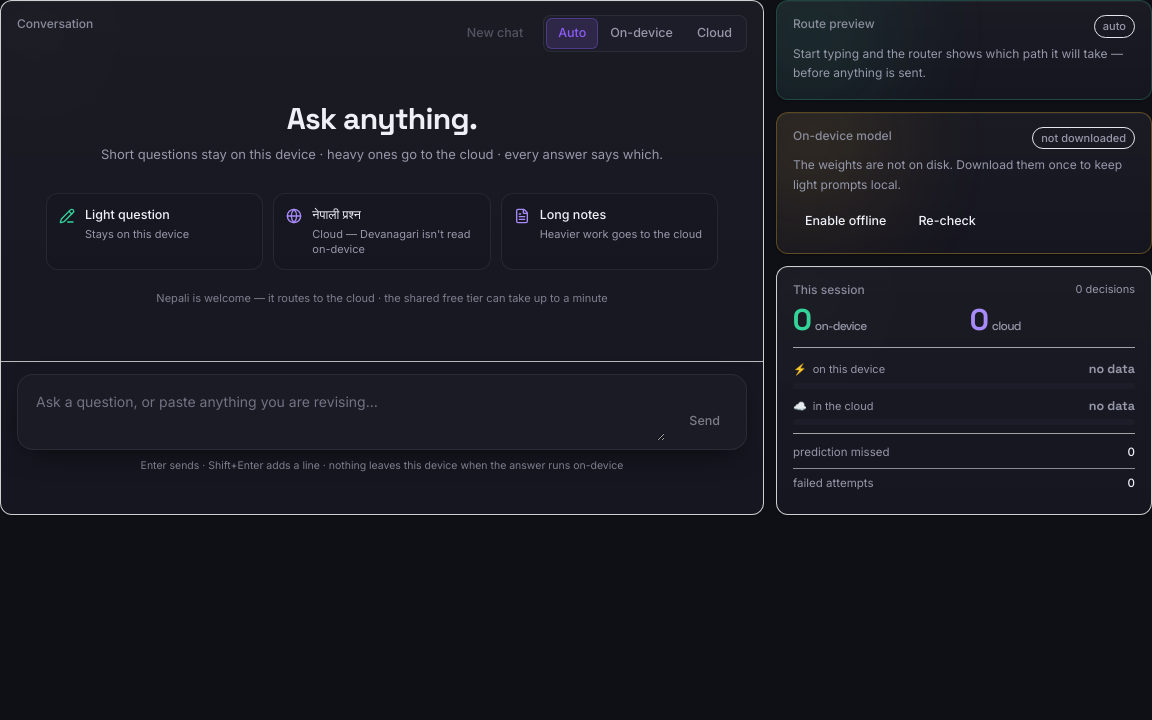
AskPage when history cannot be saved › keeps the answer on screen and says it was not saved
Type "Will this save?" into the text box named "Your question".
click(346, 412); type("Will this save?")  # box [26,383,665,441]
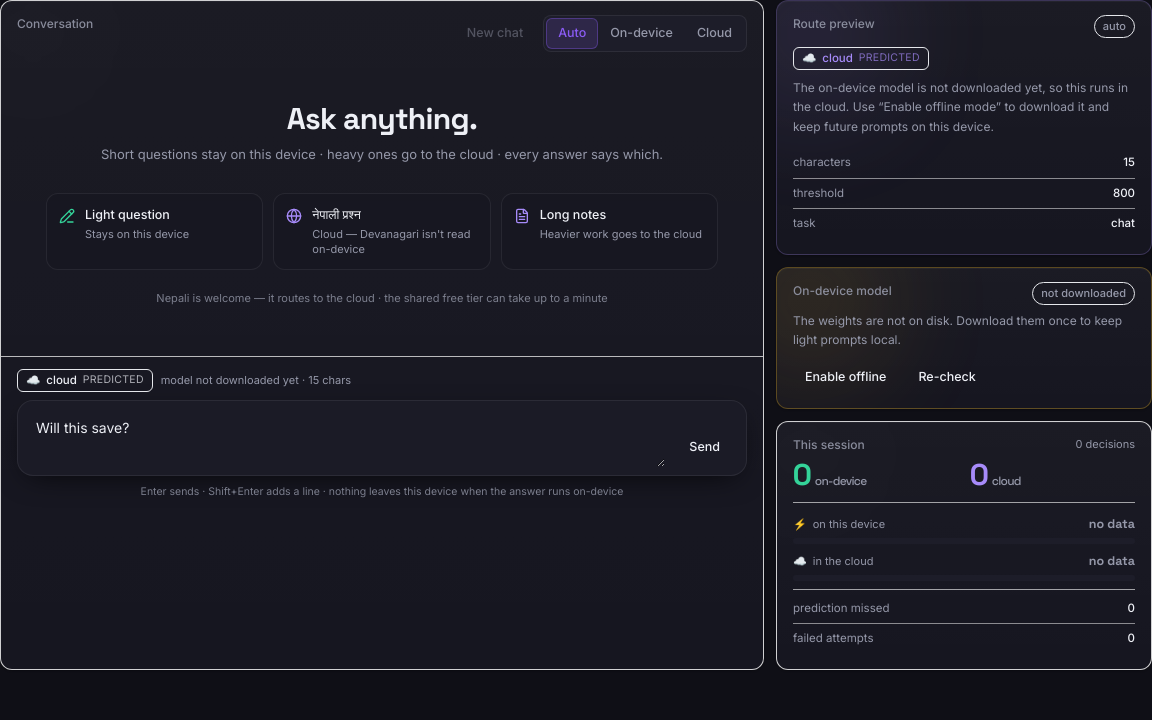
Click the button "Send".
click(705, 447)  # box [673,429,736,465]
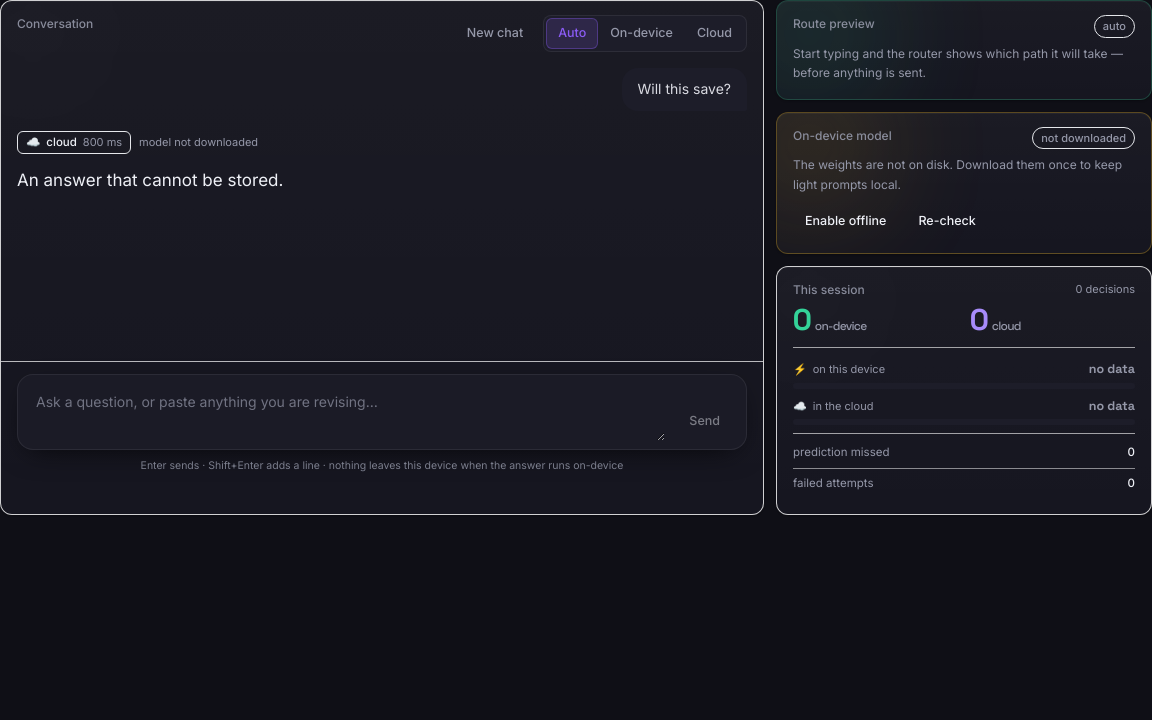
Now the text "An answer that cannot be stored." is shown, box [17,170,283,190]
